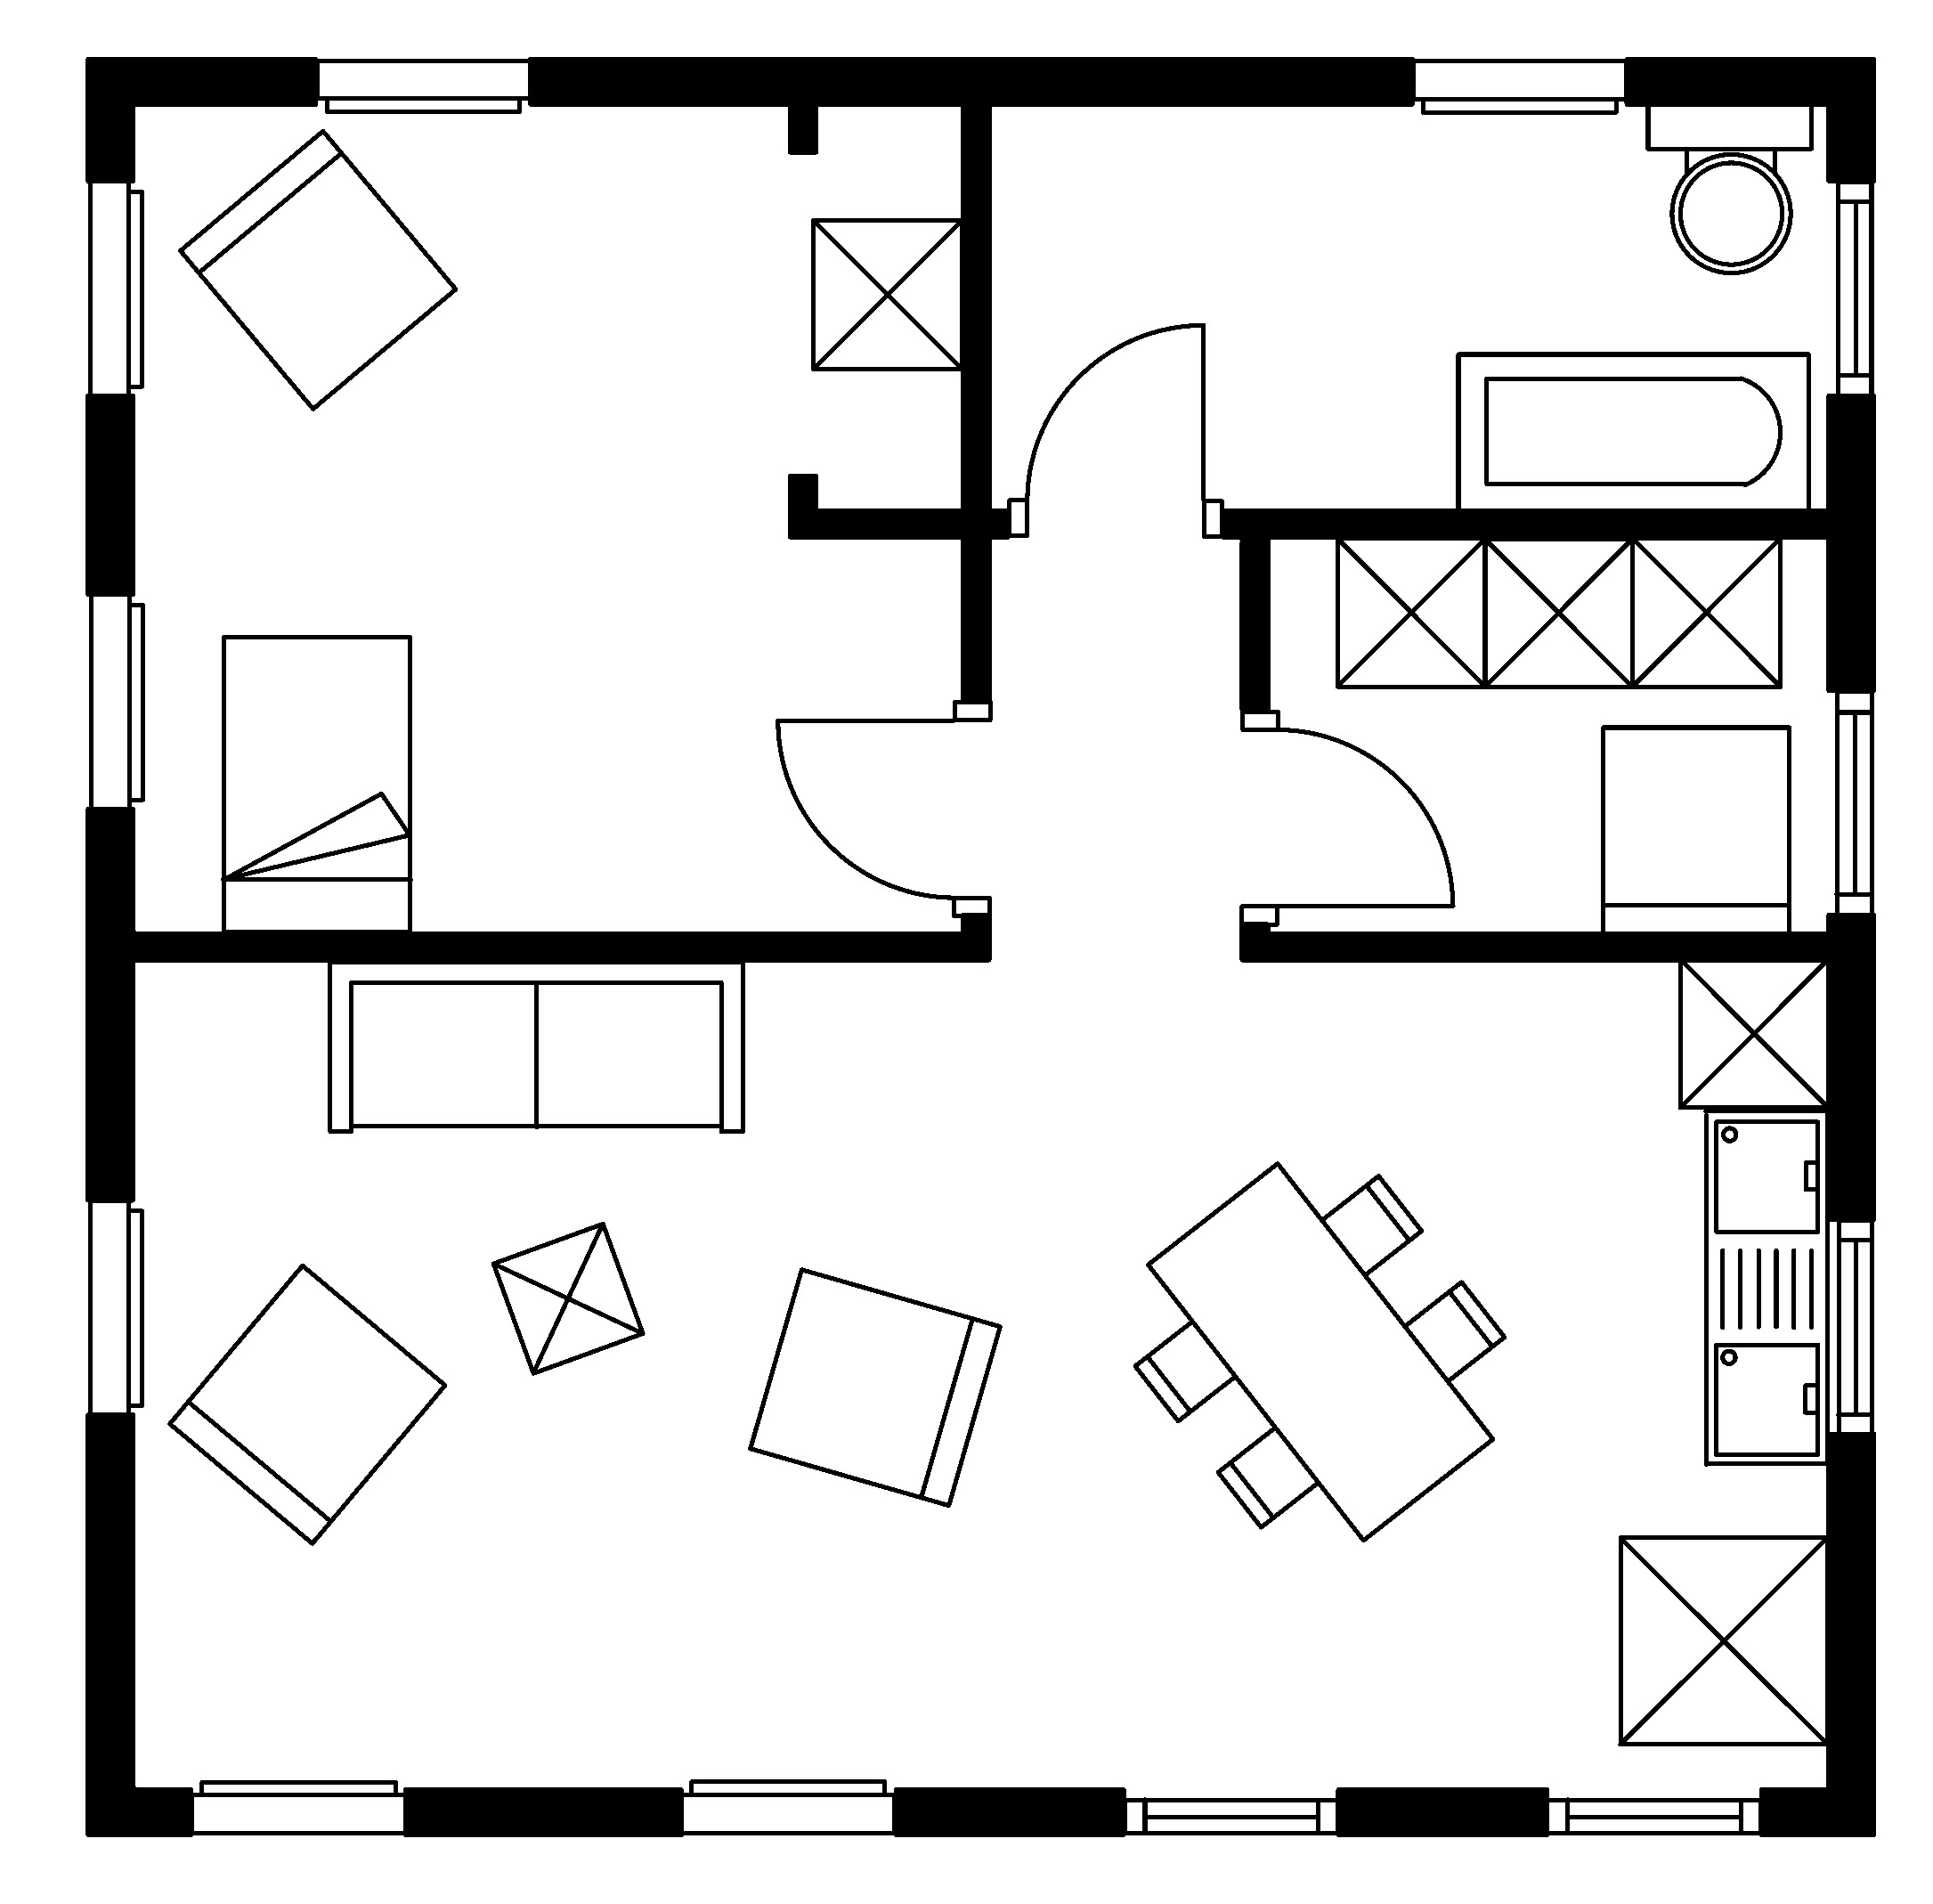bed: (220, 633, 413, 935)
coffee_table: (1616, 1534, 1830, 1747), (809, 216, 966, 371), (488, 1221, 645, 1376), (1480, 534, 1635, 689), (1628, 534, 1783, 689), (1333, 534, 1489, 689), (1675, 955, 1830, 1111)
dining_table: (1131, 1159, 1506, 1543)
large_sink: (1644, 101, 1814, 274)
large_sofa: (326, 959, 746, 1135)
small_sofa: (176, 127, 458, 411), (166, 1262, 448, 1547), (746, 1266, 1002, 1508), (1598, 724, 1792, 936)
tub: (1454, 350, 1811, 513)
twin_sink: (1701, 1107, 1830, 1468)
